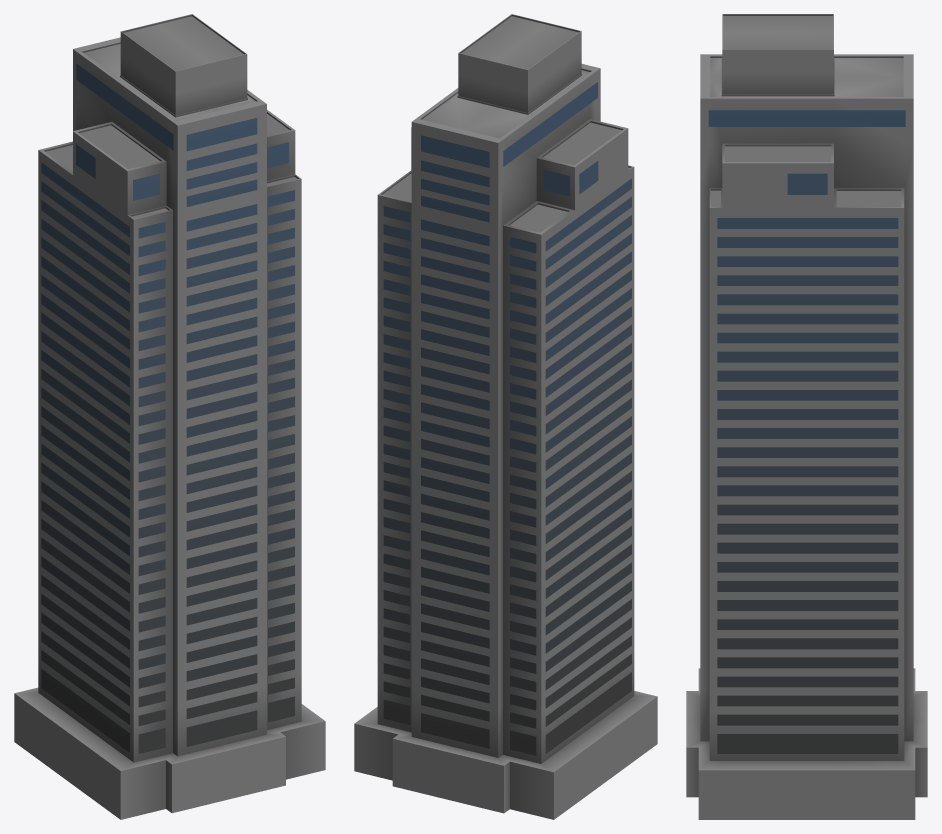
File: buildings-industrial-traditionalskyscraper_v1.glb
The picture shows the model from 3 angles, left to right: view 1: azimuth 30°, elevation 25°; view 2: azimuth 150°, elevation 25°; view 3: azimuth 270°, elevation 25°; orthographic projection. The views are drawn at different scales.
Visible parts, largest first — view 1: TraditionalSkyscraper_v1_base, TraditionalSkyscraper_v1_windowRefl; view 2: TraditionalSkyscraper_v1_base, TraditionalSkyscraper_v1_windowRefl; view 3: TraditionalSkyscraper_v1_base, TraditionalSkyscraper_v1_windowRefl.
Part boxes in pixels (x1,y1,x2,y2): TraditionalSkyscraper_v1_base: (14,14,325,819); TraditionalSkyscraper_v1_windowRefl: (41,63,294,753); TraditionalSkyscraper_v1_base: (354,14,657,819); TraditionalSkyscraper_v1_windowRefl: (383,82,631,755); TraditionalSkyscraper_v1_base: (686,14,927,819); TraditionalSkyscraper_v1_windowRefl: (708,110,905,753).
Size of the model in its own units: 20.98 by 70.87 by 21.
